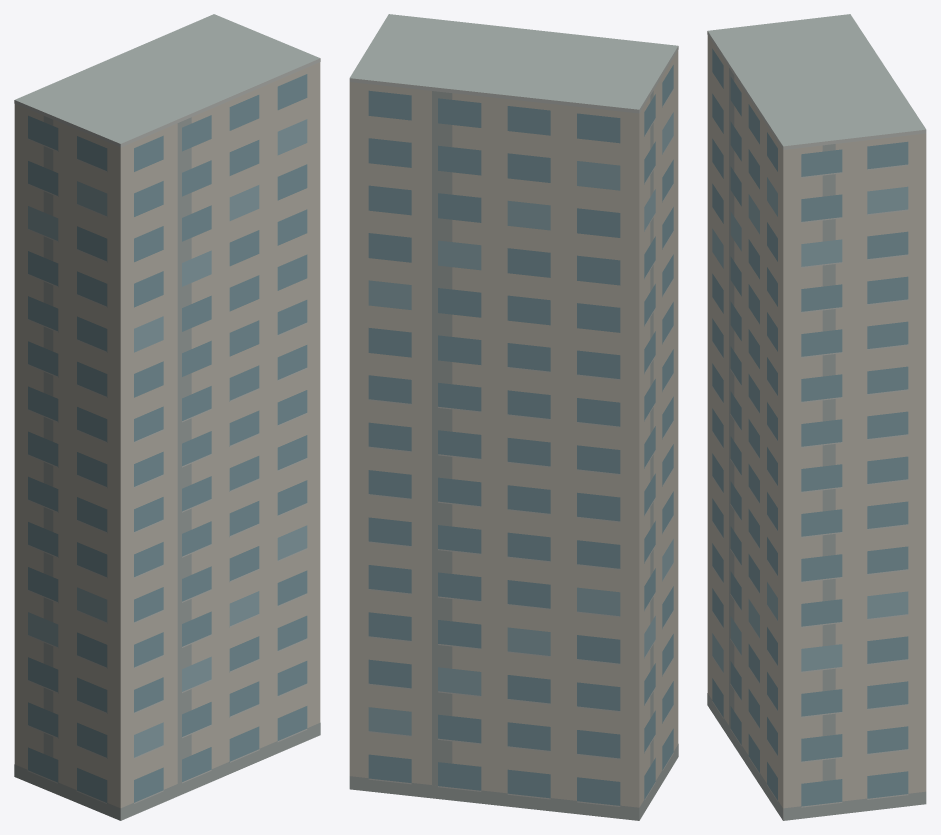
Rendered from residential-49f8908b-1c53-4c3b-a3e2-11e02bceb485.glb.
The picture shows the model from 3 angles, left to right: view 1: azimuth 30°, elevation 25°; view 2: azimuth 150°, elevation 25°; view 3: azimuth 270°, elevation 25°; orthographic projection. The views are drawn at different scales.
Visible parts, largest first — view 1: residential-49f8908b-1c53-4c3b-a3e2-11e02bceb485.tmp; view 2: residential-49f8908b-1c53-4c3b-a3e2-11e02bceb485.tmp; view 3: residential-49f8908b-1c53-4c3b-a3e2-11e02bceb485.tmp.
Boxes of the visible parts, <box> form: residential-49f8908b-1c53-4c3b-a3e2-11e02bceb485.tmp: <box>14,14,320,820</box>; residential-49f8908b-1c53-4c3b-a3e2-11e02bceb485.tmp: <box>349,14,678,820</box>; residential-49f8908b-1c53-4c3b-a3e2-11e02bceb485.tmp: <box>707,14,926,820</box>.
Size of the model in its own units: 18.95 by 45 by 13.25.
